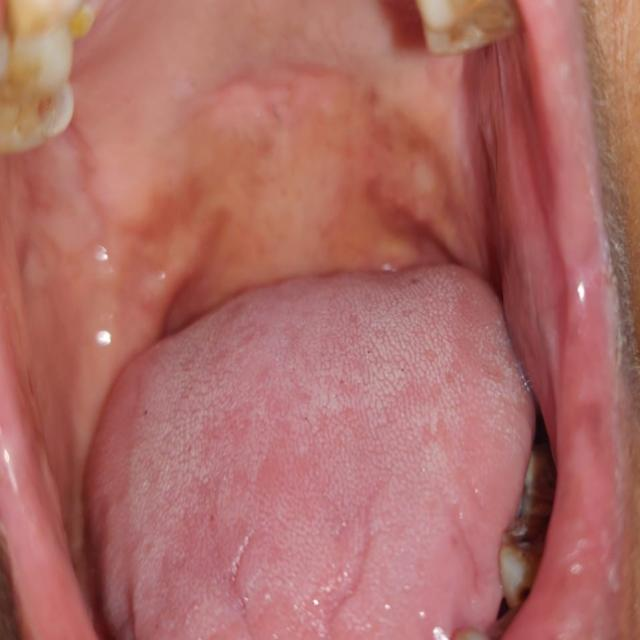No Cancer: (84, 73, 551, 375)
